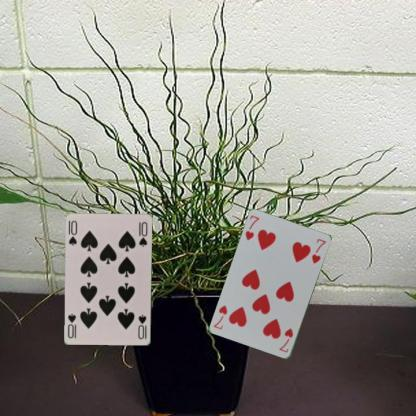10s: (66, 218, 78, 248), (136, 312, 148, 340)
7h: (242, 213, 260, 242), (276, 326, 294, 354)
